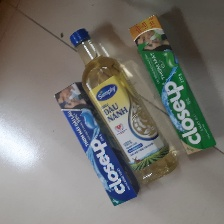CloseUp Tuyet: (53, 81, 140, 207)
CloseUp Xanh: (128, 14, 215, 155)
Simply: (68, 27, 181, 186)
